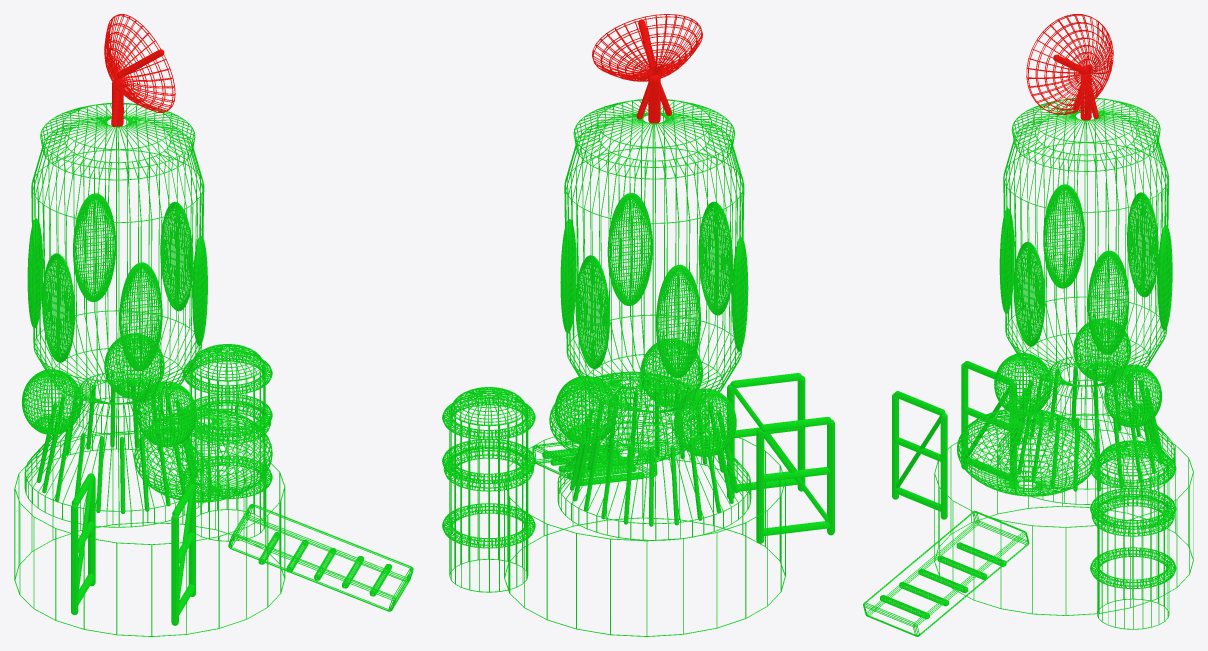
Rendered from ore-teleporter-highlight-long-range-transceiver.glb.
3 views of the same model, side by side, from view 1: azimuth 30°, elevation 25°; view 2: azimuth 150°, elevation 25°; view 3: azimuth 270°, elevation 25° (orthographic). The views are drawn at different scales.
Visible parts, largest first — view 1: chassis technical wire, atomic-scan-generators technical wire, data-throughput-supercomputer technical wire, long-range-transceiver technical wire; view 2: chassis technical wire, data-throughput-supercomputer technical wire, atomic-scan-generators technical wire, long-range-transceiver technical wire; view 3: chassis technical wire, data-throughput-supercomputer technical wire, atomic-scan-generators technical wire, long-range-transceiver technical wire.
Boxes of the visible parts, x1,y1,x2,y2 form: chassis technical wire: (14, 102, 413, 636); atomic-scan-generators technical wire: (21, 333, 196, 447); data-throughput-supercomputer technical wire: (182, 344, 272, 541); long-range-transceiver technical wire: (104, 14, 175, 127); chassis technical wire: (504, 99, 834, 636); data-throughput-supercomputer technical wire: (442, 387, 535, 592); atomic-scan-generators technical wire: (554, 339, 736, 456); long-range-transceiver technical wire: (592, 14, 702, 124); chassis technical wire: (863, 98, 1193, 636); data-throughput-supercomputer technical wire: (1090, 440, 1176, 629); atomic-scan-generators technical wire: (994, 318, 1161, 427); long-range-transceiver technical wire: (1026, 14, 1113, 121).
Bounding box in the file's own units: 1.65 × 2.78 × 1.56.
